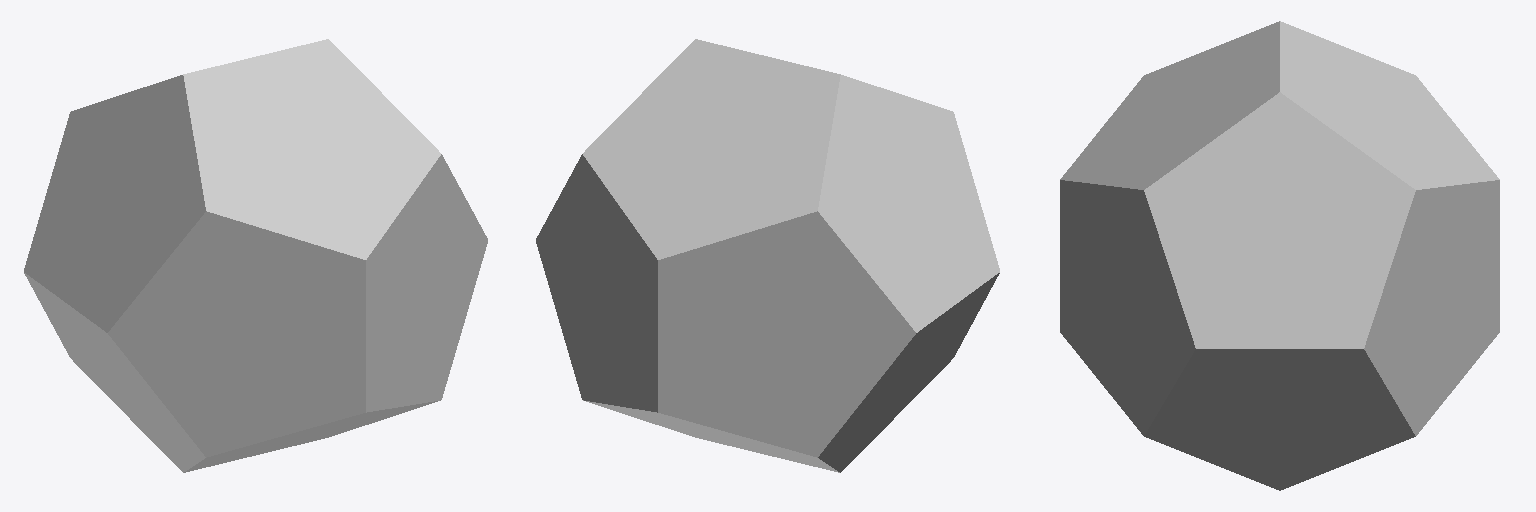
The model's file is dodecahedron.obj.
3 views of the same model, side by side, from view 1: azimuth 30°, elevation 25°; view 2: azimuth 150°, elevation 25°; view 3: azimuth 270°, elevation 25° (orthographic).
Visible parts, largest first — view 1: Solid.000; view 2: Solid.000; view 3: Solid.000.
Boxes of the visible parts, <box> form: Solid.000: <box>24,39,487,472</box>; Solid.000: <box>536,39,999,472</box>; Solid.000: <box>1060,21,1499,490</box>.
Bounding box in the file's own units: 1.79 × 1.79 × 1.79.